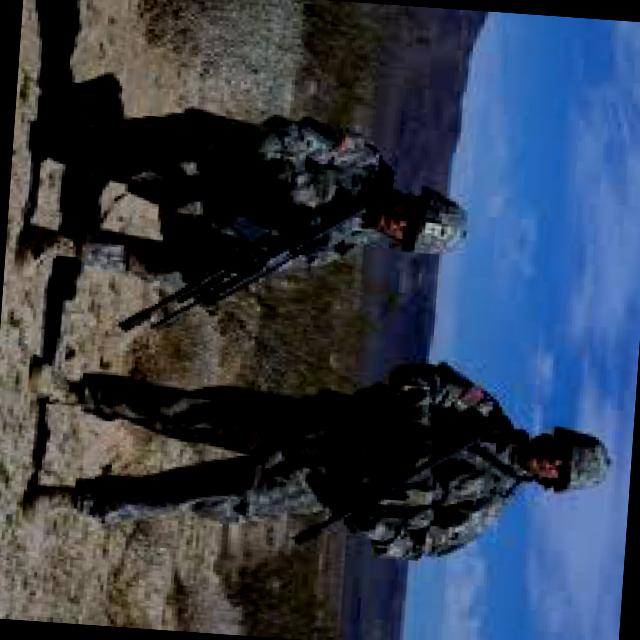long weapon: (112, 180, 377, 348), (266, 395, 504, 564)
